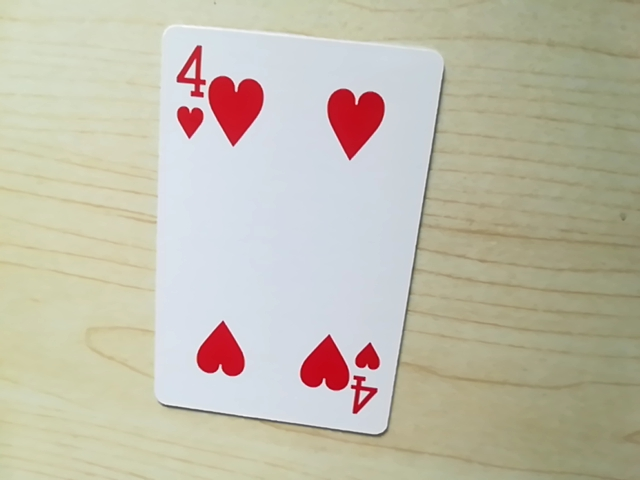hx 4: (167, 26, 205, 151), (349, 342, 386, 421)
